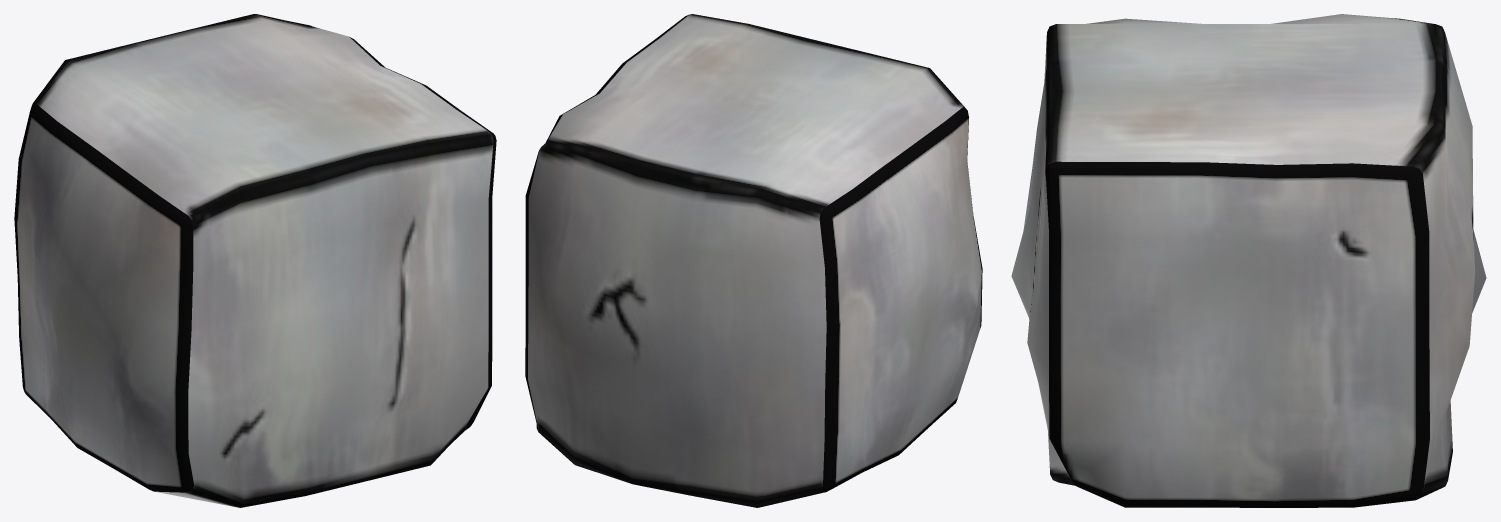
The model's file is cubic_rock_02.fbx.
3 views of the same model, side by side, from view 1: azimuth 30°, elevation 25°; view 2: azimuth 150°, elevation 25°; view 3: azimuth 270°, elevation 25° (orthographic). The views are drawn at different scales.
Parts seen in each view (by area): view 1: cubic_rock_02; view 2: cubic_rock_02; view 3: cubic_rock_02.
Boxes of the visible parts, x1,y1,x2,y2 form: cubic_rock_02: (14, 14, 496, 507); cubic_rock_02: (525, 14, 982, 507); cubic_rock_02: (1011, 14, 1486, 507).
Size of the model in its own units: 49.21 by 44.58 by 52.41.
1 material, 1 textured.
